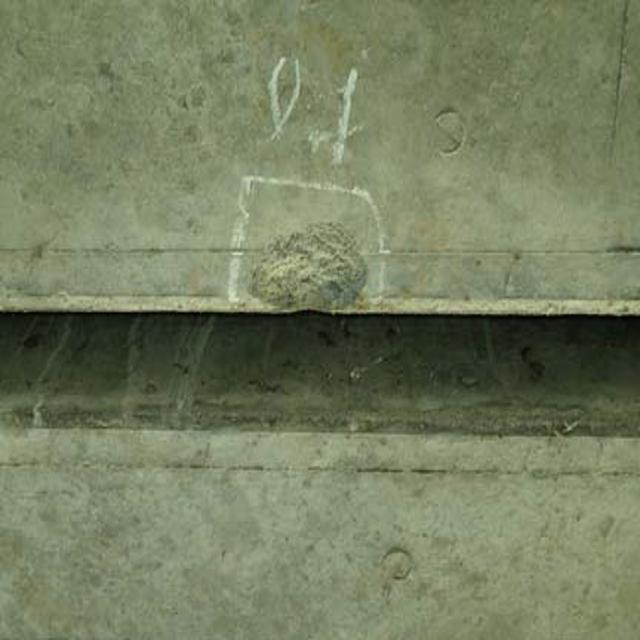spalling: (253, 207, 393, 323)
